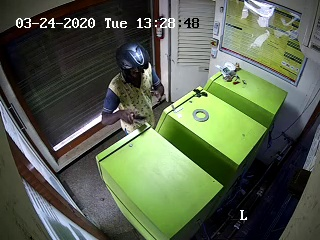helmet: (112, 43, 153, 85)
